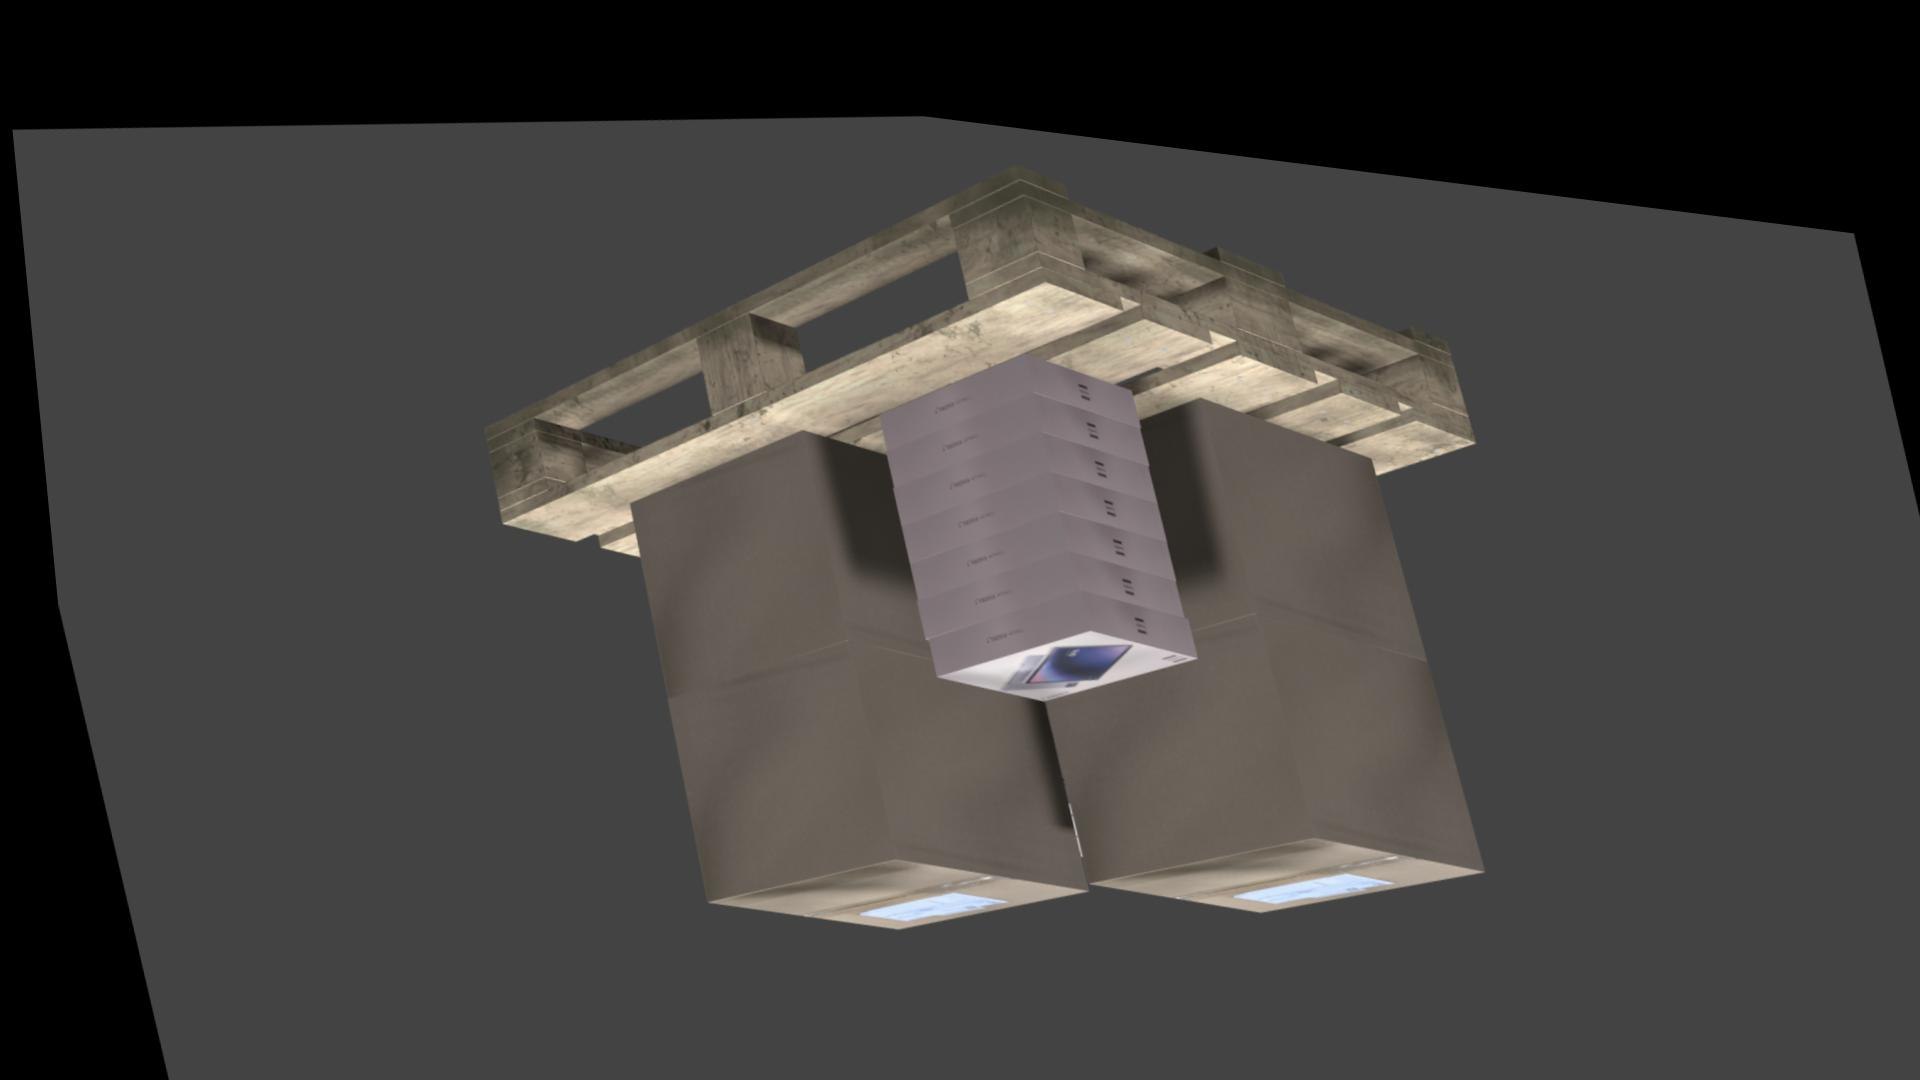group_box_left: (1035, 580, 1470, 852), (654, 621, 1071, 882), (620, 411, 918, 680), (1133, 365, 1415, 622)
group_box_top: (1073, 804, 1468, 882), (691, 839, 1067, 909)
palet: (475, 133, 1472, 543)
tablet_left: (872, 327, 1134, 427), (878, 367, 1142, 464), (885, 405, 1149, 501), (894, 444, 1156, 539), (901, 484, 1167, 576), (918, 563, 1185, 653), (907, 525, 1174, 615)
tablet_top: (926, 603, 1184, 675)
